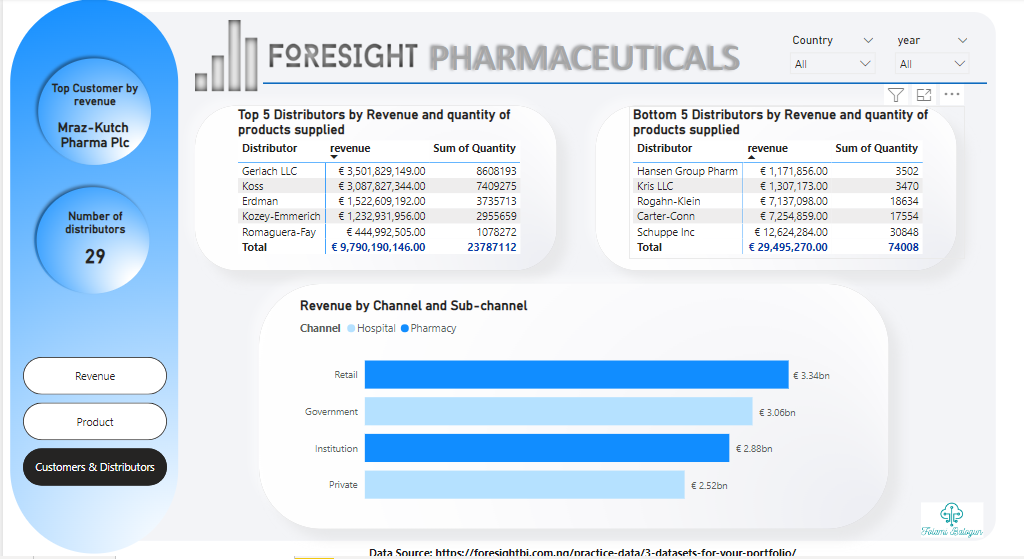

The dashboard page shown, as its layout file describes it:
{"tool":"powerbi","page":{"name":"Customers & Distributors","canvas":[1280,720],"ordinal":2},"visuals":[{"type":"slicer","fields":{"Values":["calendar.year"]},"box":[1105,40,113.3,58.3],"z":0},{"type":"barChart","title":"Revenue by Channel and Sub-channel","fields":{"Category":["Data.Sub-channel"],"Y":["Dax measures.revenue"],"Series":["Data.Channel"]},"box":[366.7,373.3,671.7,276.7],"z":1000},{"type":"slicer","fields":{"Values":["Data.Country"]},"box":[973.3,40,126.7,58.3],"z":2000},{"type":"pageNavigator","box":[25,448.3,180,163.3],"z":3000},{"type":"card","title":"Number of distributors","fields":{"Values":["Count(Data.Distributor)"]},"box":[58.3,265,113.3,81.7],"z":4000},{"type":"card","title":"Top Customer by revenue","fields":{"Values":["Min(Data.Customer Name)"]},"box":[50,105,130,100],"z":5000},{"type":"pivotTable","title":"Top 5 Distributors by Revenue and quantity of products supplied","fields":{"Rows":["Data.Distributor"],"Values":["Dax measures.revenue","Sum(Data.Quantity)"]},"box":[288.9,134.4,371.2,191.5],"z":6000},{"type":"pivotTable","title":"Bottom 5 Distributors by Revenue and quantity of products supplied","fields":{"Rows":["Data.Distributor"],"Values":["Dax measures.revenue","Sum(Data.Quantity)"]},"box":[782.8,134.4,419.9,191.5],"z":7000},{"type":"shape","box":[325,90,905,33.3],"z":8000},{"type":"image","box":[1142,612,88,80],"z":9000},{"type":"textbox","box":[452.9,680,568.6,30],"z":10000}]}

Visuals, with their boxes on the page's 1280x720 design canvas (x1, y1, x2, y2). These are canvas units, not pixel positions in the 1024x559 screenshot, which may show the page scaled, cropped or inside an application window:
slicer - calendar.year: (left=1105, top=40, right=1218, bottom=98)
"Revenue by Channel and Sub-channel" barChart: (left=367, top=373, right=1038, bottom=650)
slicer - Data.Country: (left=973, top=40, right=1100, bottom=98)
pageNavigator: (left=25, top=448, right=205, bottom=612)
"Number of distributors" card: (left=58, top=265, right=172, bottom=347)
"Top Customer by revenue" card: (left=50, top=105, right=180, bottom=205)
"Top 5 Distributors by Revenue and quantity of products supplied" pivotTable: (left=289, top=134, right=660, bottom=326)
"Bottom 5 Distributors by Revenue and quantity of products supplied" pivotTable: (left=783, top=134, right=1203, bottom=326)
shape: (left=325, top=90, right=1230, bottom=123)
image: (left=1142, top=612, right=1230, bottom=692)
textbox: (left=453, top=680, right=1022, bottom=710)
